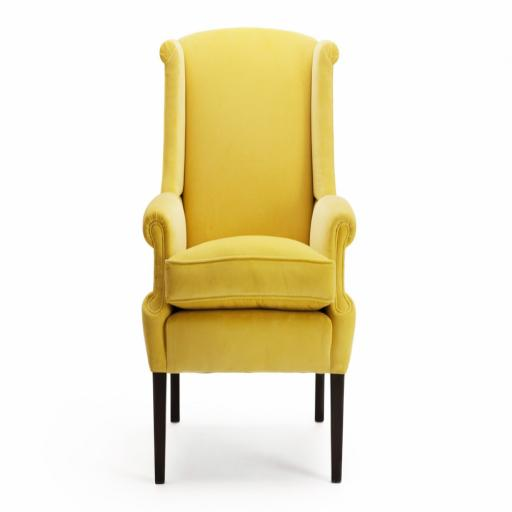chair: (142, 27, 357, 484)
